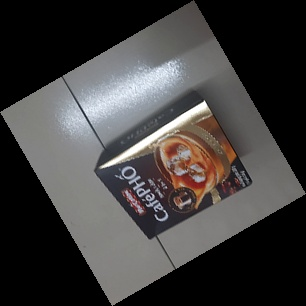CF pho: (95, 92, 256, 239)
